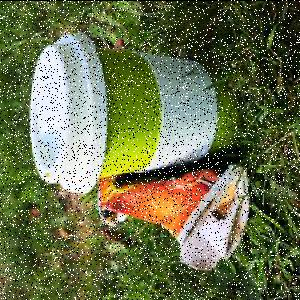Cup: (28, 34, 242, 196)
